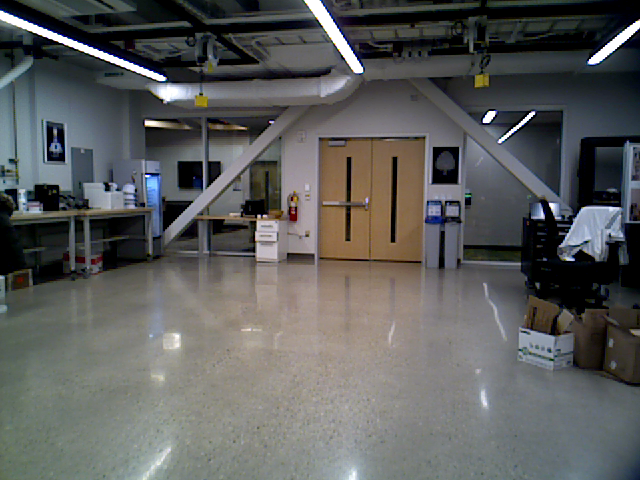painting1: (431, 145, 461, 184)
painting2: (40, 120, 70, 166)
